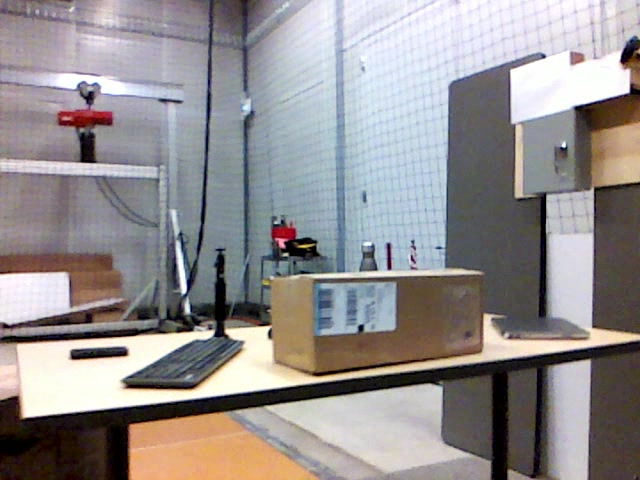box: (273, 266, 485, 370)
